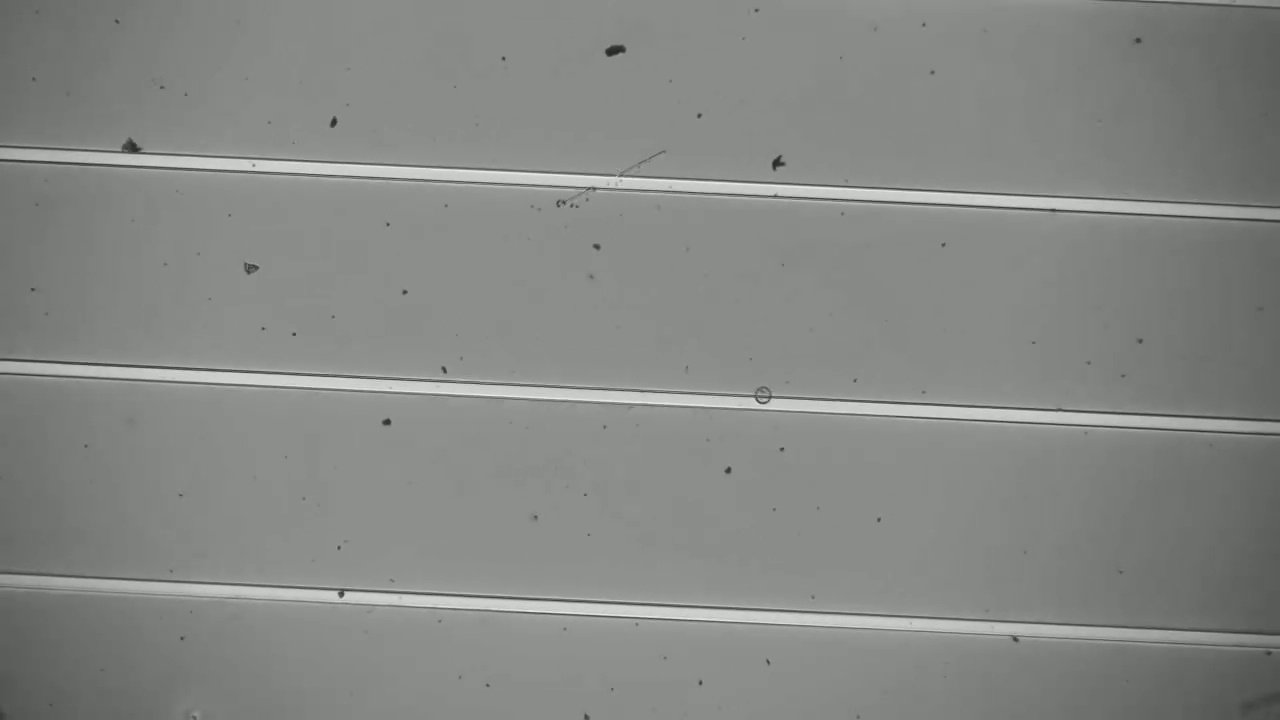stains_enbedded: (748, 379, 778, 412)
